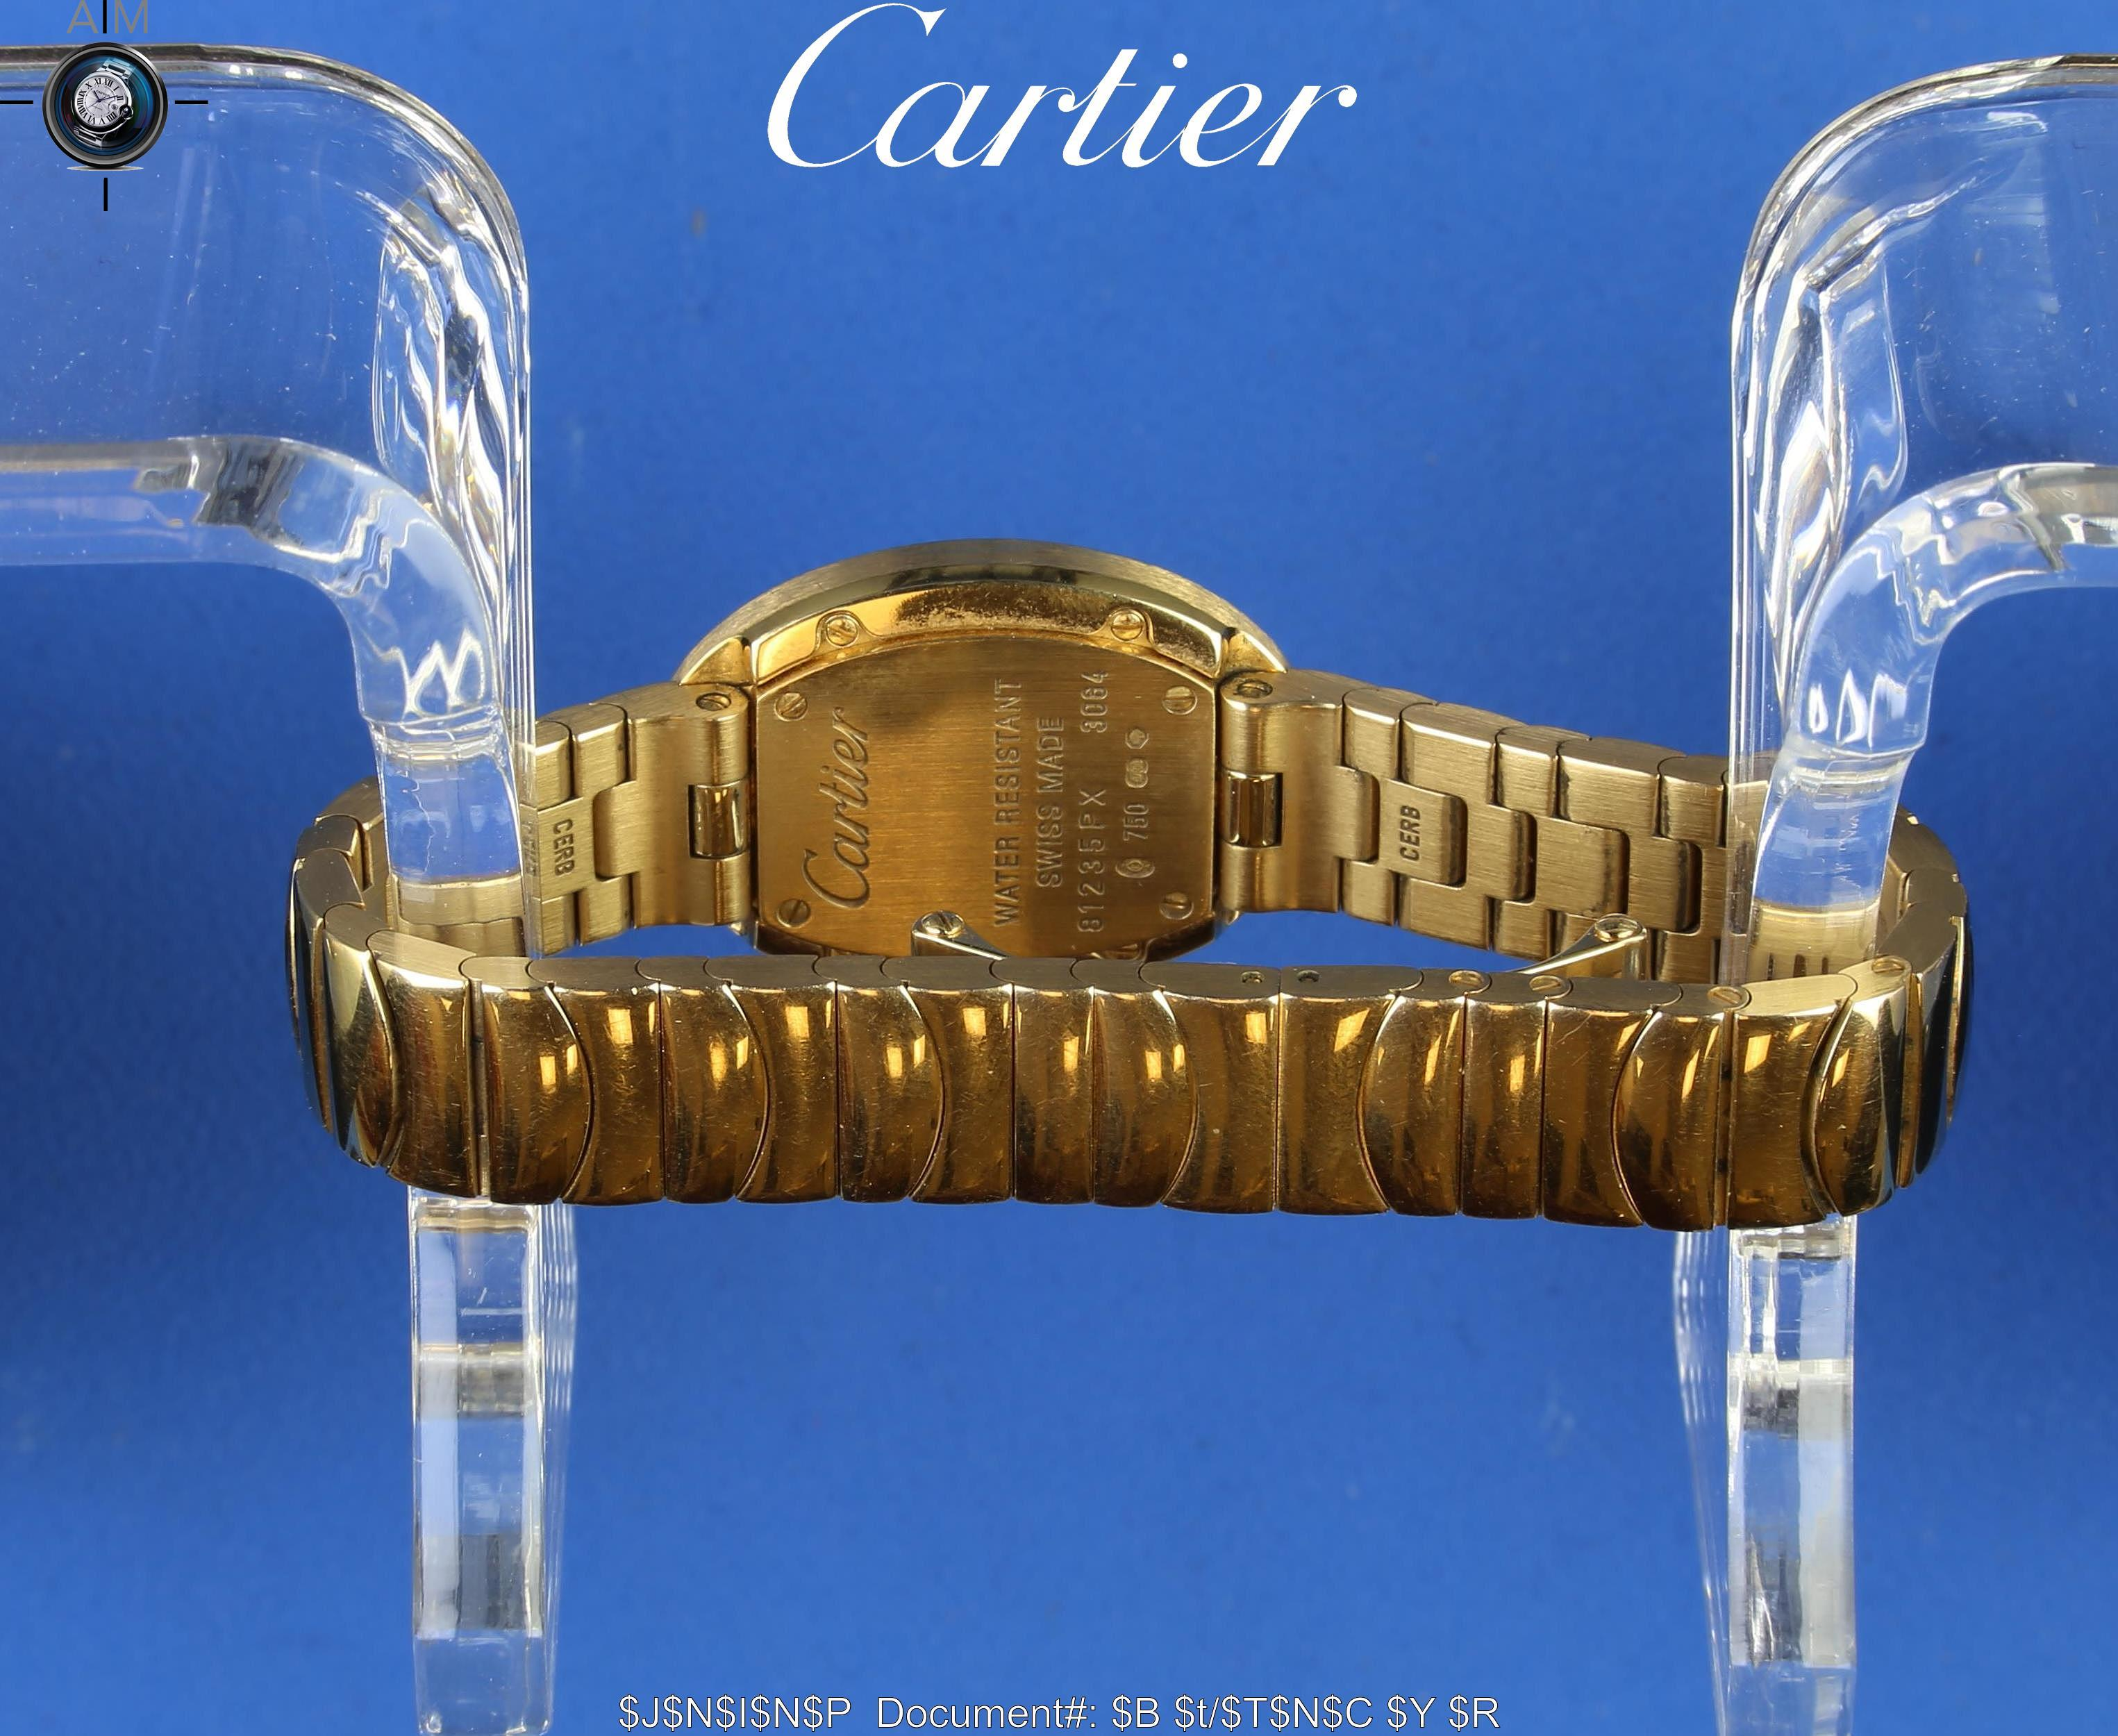Watch Back Case: (676, 529, 1311, 964)
